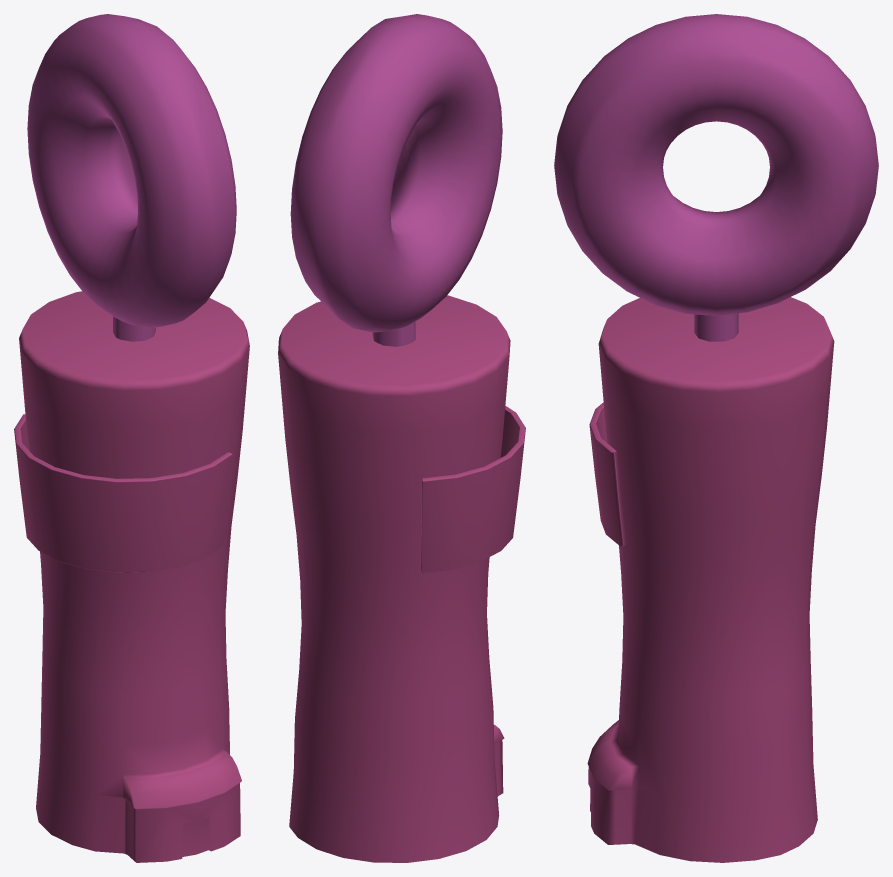
File: SM_Building_Food_B.fbx
3 renders of one model, left to right at view 1: azimuth 30°, elevation 25°; view 2: azimuth 150°, elevation 25°; view 3: azimuth 270°, elevation 25°, orthographic.
Visible parts, largest first — view 1: pCylinder25; view 2: pCylinder25; view 3: pCylinder25.
Boxes of the visible parts, x1=… form: pCylinder25: x1=14, y1=14, x2=249, y2=862; pCylinder25: x1=278, y1=14, x2=525, y2=862; pCylinder25: x1=554, y1=14, x2=878, y2=862.
Size of the model in its own units: 260 by 925 by 341.
